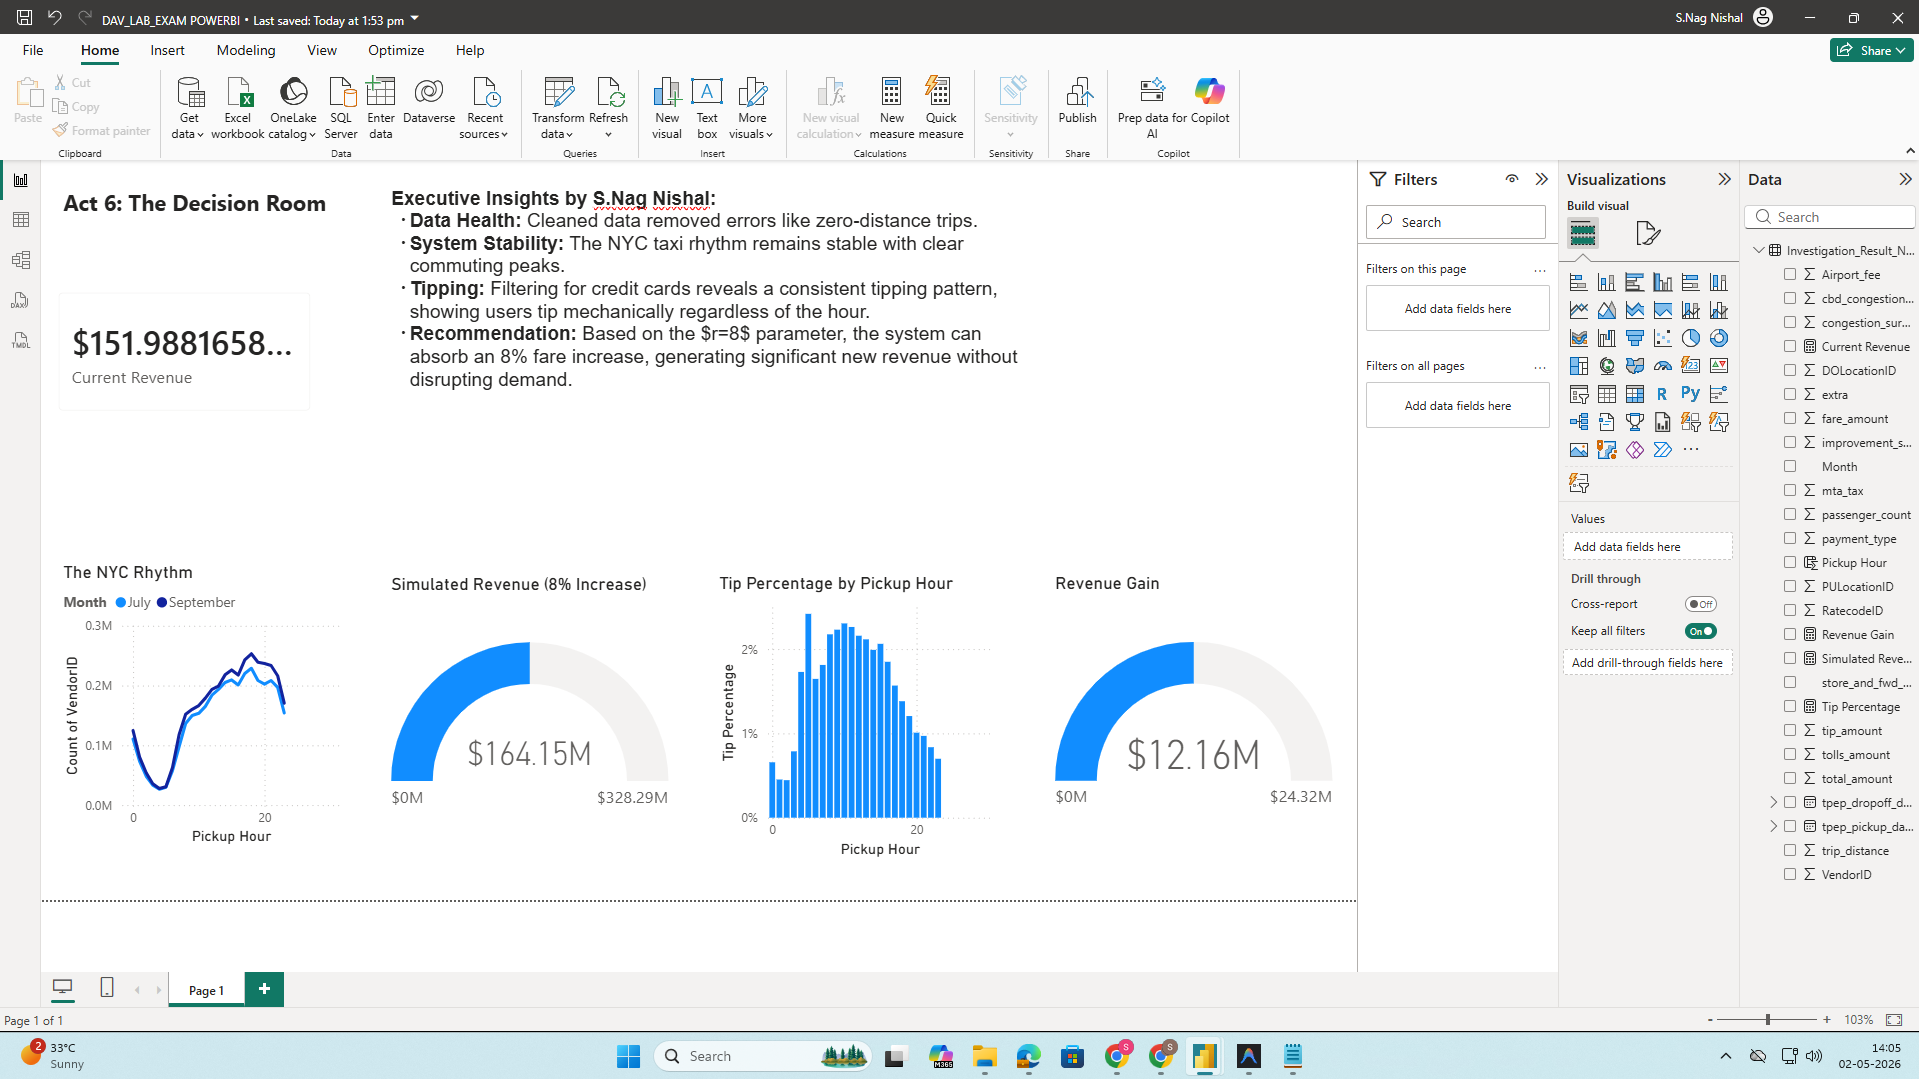

What the dashboard file says about the page in this screenshot:
{"tool":"powerbi","page":{"name":"Page 1","canvas":[1280,720],"ordinal":0},"visuals":[{"type":"lineChart","title":"The NYC Rhythm","fields":{"Category":["Investigation_Result_Nishal.Pickup Hour"],"Y":["CountNonNull(Investigation_Result_Nishal.VendorID)"],"Series":["Investigation_Result_Nishal.Month"]},"box":[16.9,390.8,279.8,279.8],"z":0},{"type":"clusteredColumnChart","fields":{"Category":["Investigation_Result_Nishal.Pickup Hour"],"Y":["Investigation_Result_Nishal.Tip Percentage"]},"box":[654.9,401.6,279.8,281],"z":1},{"type":"cardVisual","fields":{"Data":["Investigation_Result_Nishal.Current Revenue"]},"box":[0,112.2,279.8,149.5],"z":2},{"type":"gauge","fields":{"Y":["Investigation_Result_Nishal.Simulated Revenue (8% Increase)"]},"box":[335.3,402.8,279.8,279.8],"z":3},{"type":"gauge","fields":{"Y":["Investigation_Result_Nishal.Revenue Gain"]},"box":[981.7,401.6,279.8,281],"z":4},{"type":"textbox","box":[335.3,21.7,646.4,296.7],"z":5},{"type":"textbox","box":[16.9,21.7,318.4,57.9],"z":6}]}

Visuals, with their boxes on the page's 1280x720 design canvas (x1, y1, x2, y2). These are canvas units, not pixel positions in the 1919x1079 screenshot, which may show the page scaled, cropped or inside an application window:
"The NYC Rhythm" lineChart: x1=17 y1=391 x2=297 y2=671
clusteredColumnChart - Investigation_Result_Nishal.Pickup Hour x Investigation_Result_Nishal.Tip Percentage: x1=655 y1=402 x2=935 y2=683
cardVisual - Investigation_Result_Nishal.Current Revenue: x1=0 y1=112 x2=280 y2=262
gauge - Investigation_Result_Nishal.Simulated Revenue (8% Increase): x1=335 y1=403 x2=615 y2=683
gauge - Investigation_Result_Nishal.Revenue Gain: x1=982 y1=402 x2=1262 y2=683
textbox: x1=335 y1=22 x2=982 y2=318
textbox: x1=17 y1=22 x2=335 y2=80
